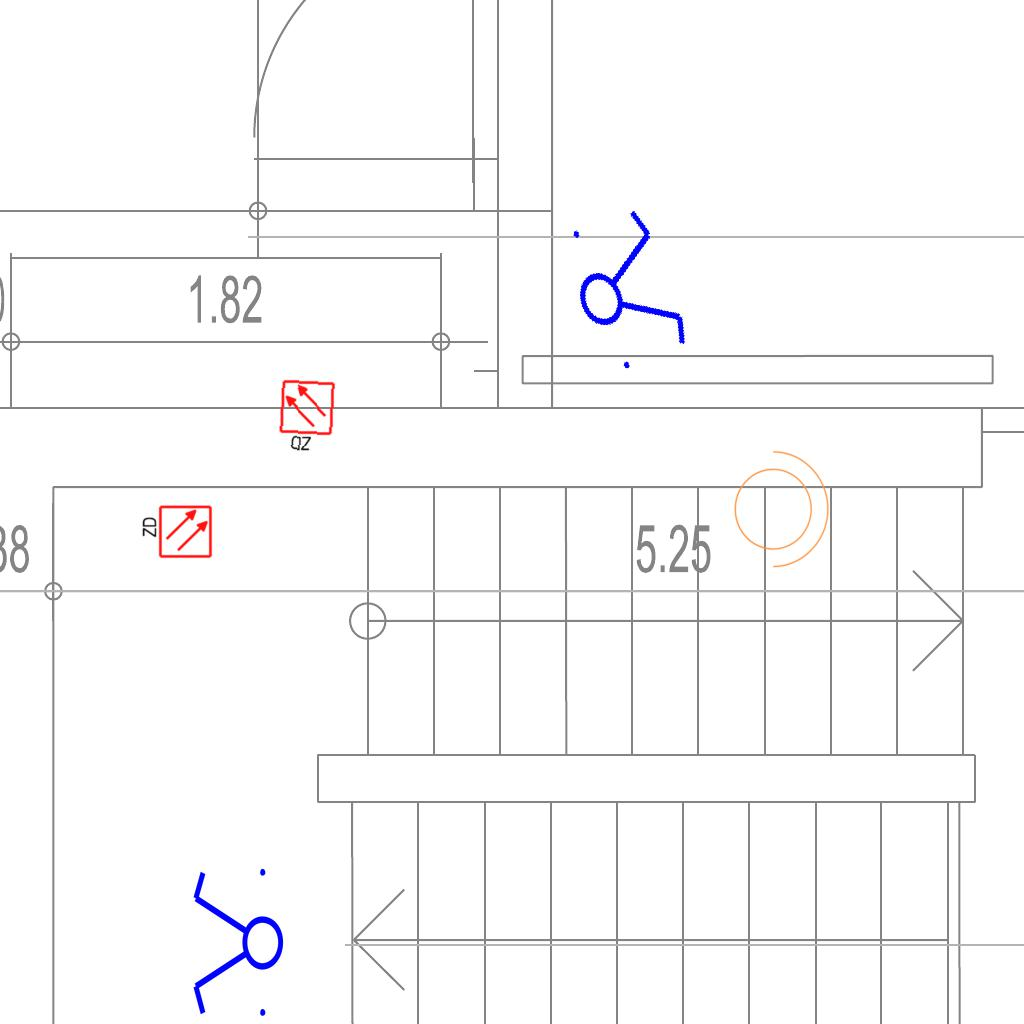Scheinwerfer_fuer_Alarmbeleuchtung: (722, 440, 834, 572)
Serienschalter: (550, 193, 700, 385), (189, 860, 285, 1024)
ZD_Melder_in_Zwischendecke_mit_Revisionsoeffnung_mind_40_x_40_cm: (277, 378, 338, 456), (139, 504, 213, 561)
